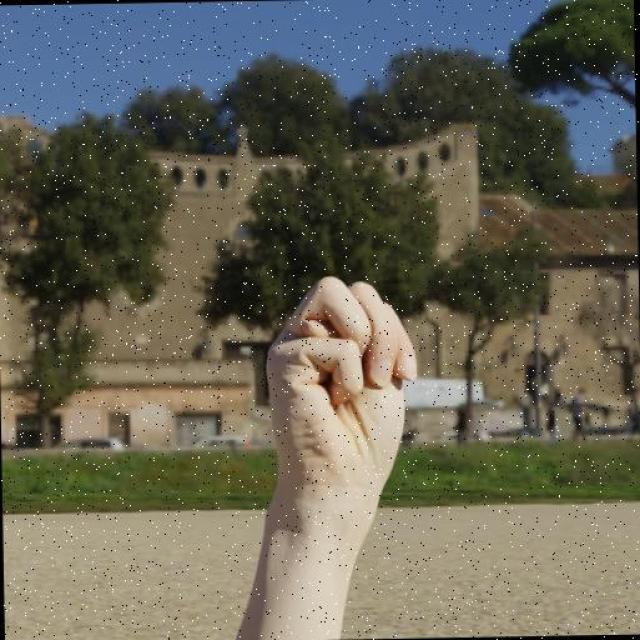M: (260, 272, 422, 494)
